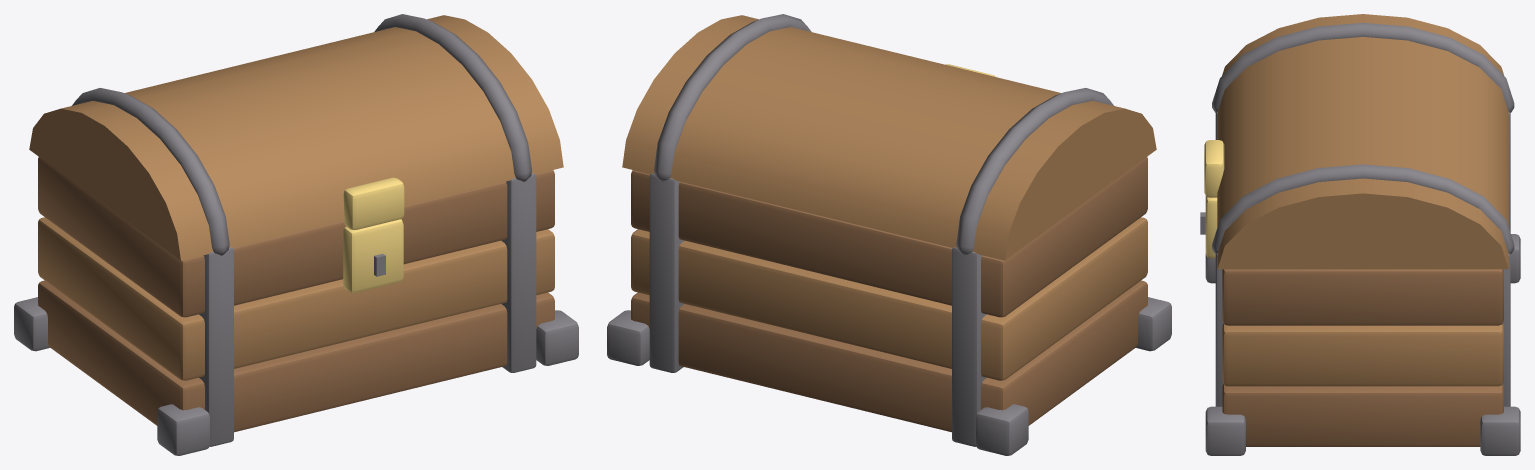
File: chest.glb
3 views of the same model, side by side, from view 1: azimuth 30°, elevation 25°; view 2: azimuth 150°, elevation 25°; view 3: azimuth 270°, elevation 25° (orthographic). The views are drawn at different scales.
Visible parts, largest first — view 1: chest, lid; view 2: chest, lid; view 3: lid, chest.
Boxes of the visible parts, x1,y1,x2,y2 form: chest: (14, 157, 578, 455); lid: (29, 14, 563, 260); chest: (607, 157, 1171, 455); lid: (622, 14, 1156, 260); lid: (1204, 14, 1514, 269); chest: (1200, 111, 1520, 455).
Size of the model in its own units: 0.67 by 0.449 by 0.478.
